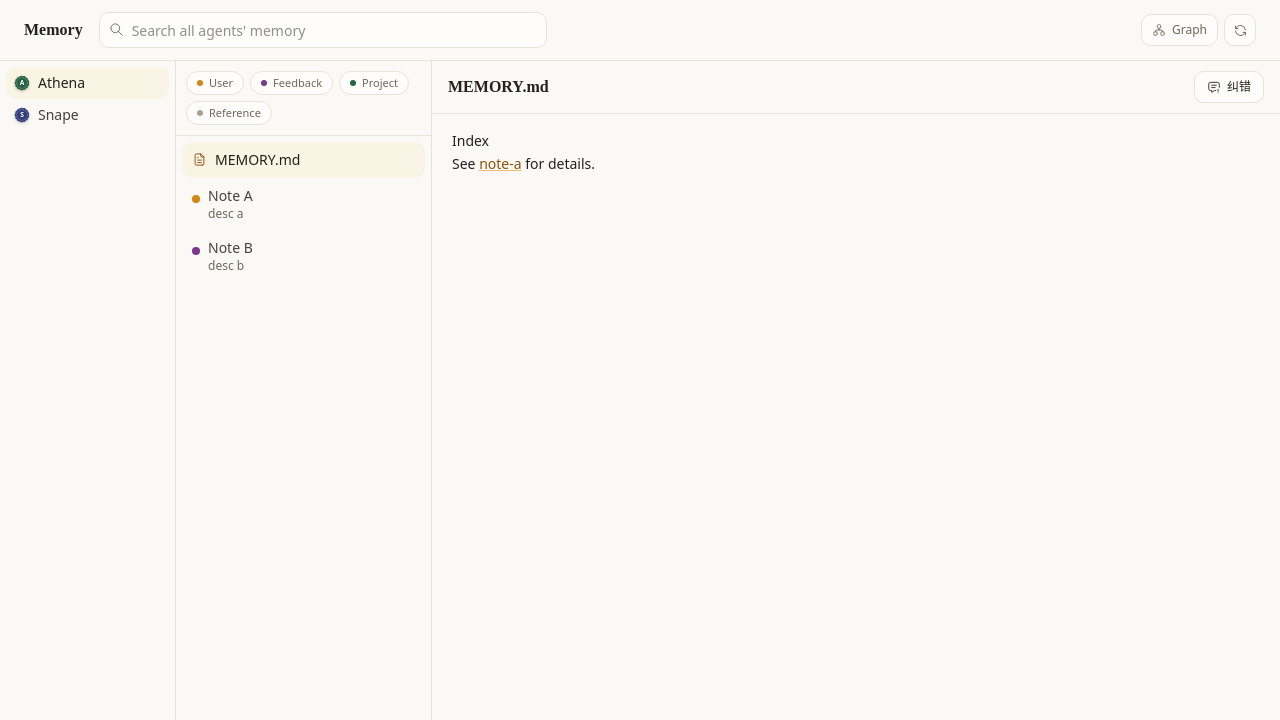
Test: MemoryPage › switches agents and refetches that agent's file list
The width and height of the screenshot is (1280, 720).
Expected: the text "Note A" is shown, [208,186,253,205]
Click the text "Snape" at (58, 115), box [38,105,79,125]
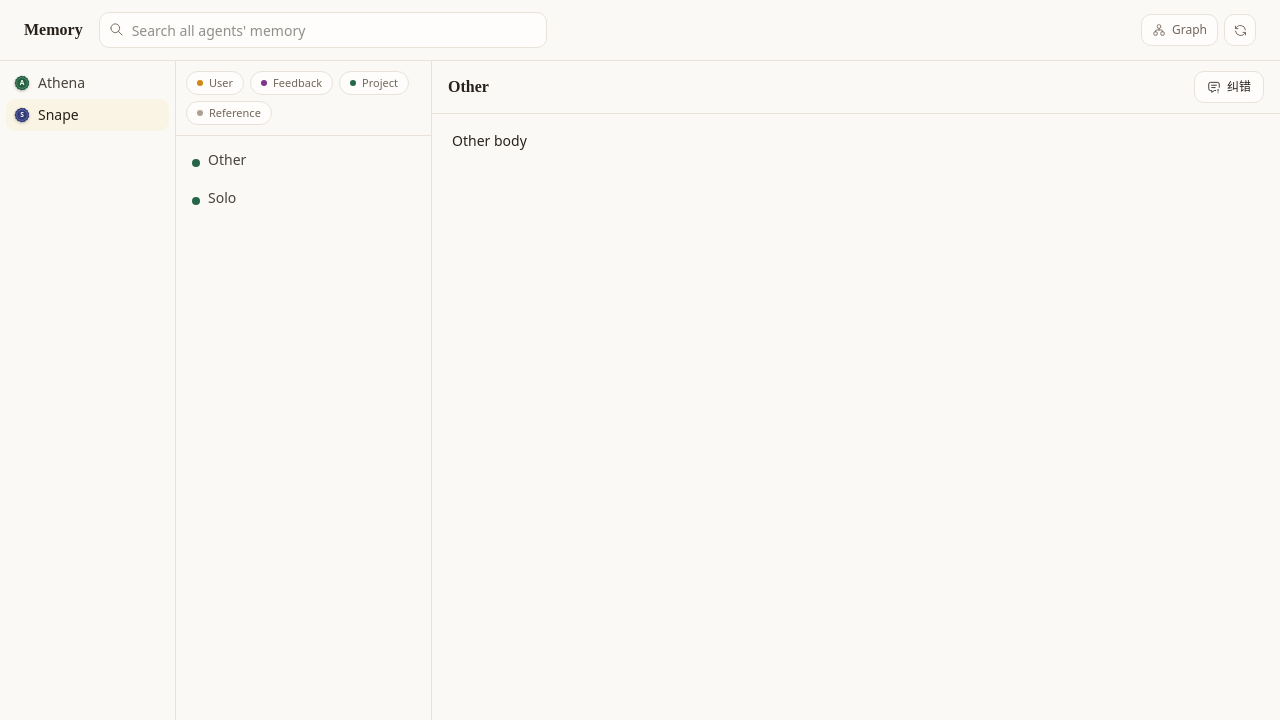
Now the button "Other" is shown, box [182,142,425,180]
Now the button "Solo" is shown, box [182,180,425,218]
Now the button "Note A" is gone
